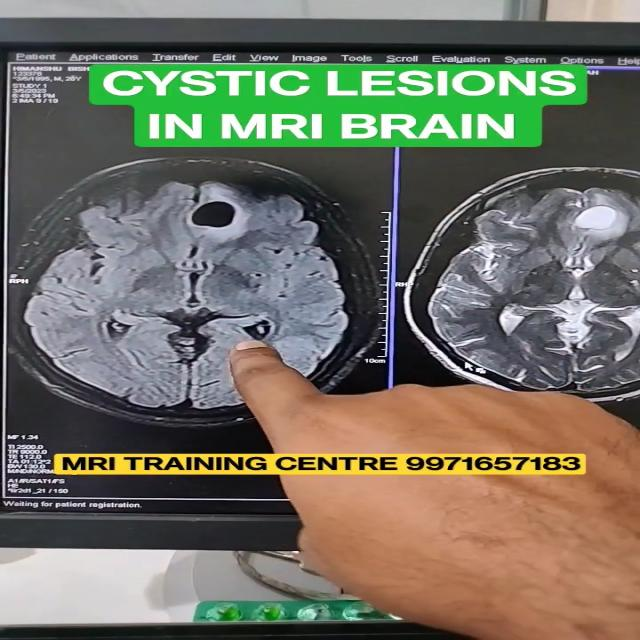tumor: (134, 190, 274, 246), (531, 201, 640, 237)
